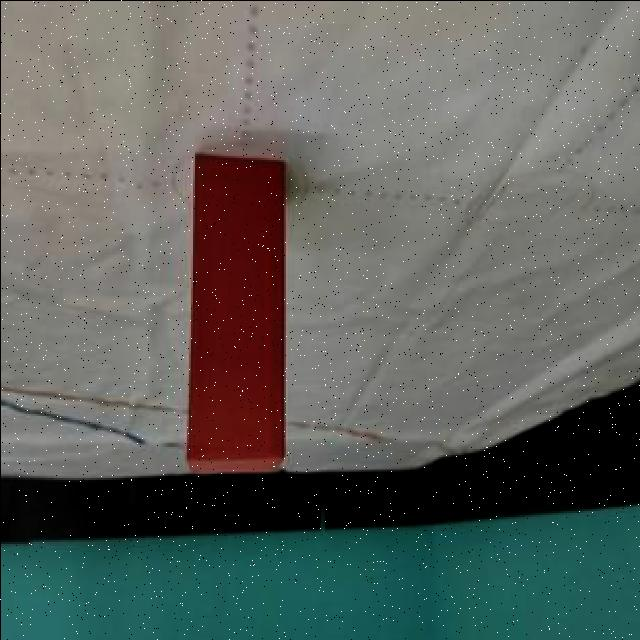redbox: (190, 153, 285, 470)
